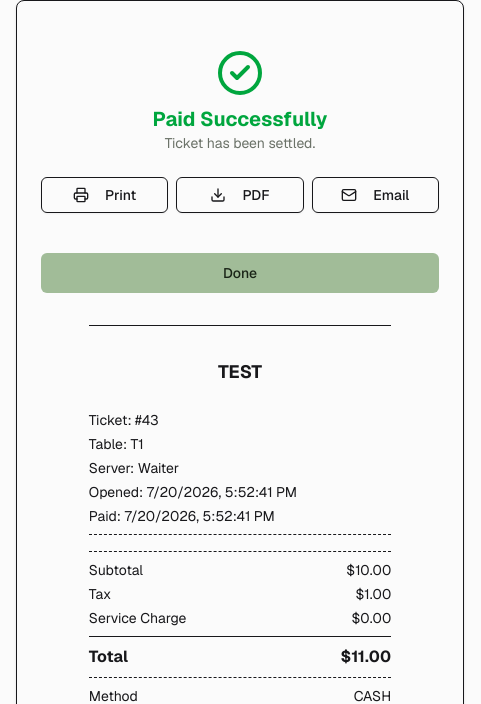
Test: TicketSettlement UI › renders receipt, print button, email form, handles errors and duplicate submits
Check: the text "Ticket: #43" is shown, box [89,411,159,429]
Check: the button "Print" is shown, box [41,177,168,213]
Click the button "Email" at (375, 195), box [312,177,439,213]
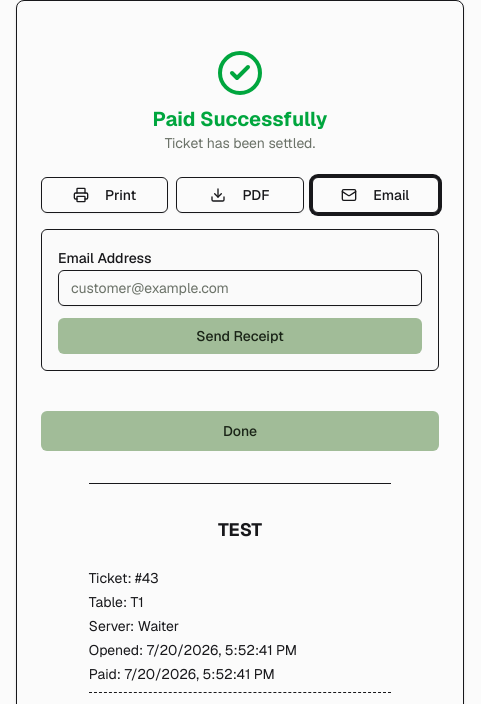
Type "test@example.com" into the field with placeholder "customer@example.com" at (240, 288), box [58,270,422,306]
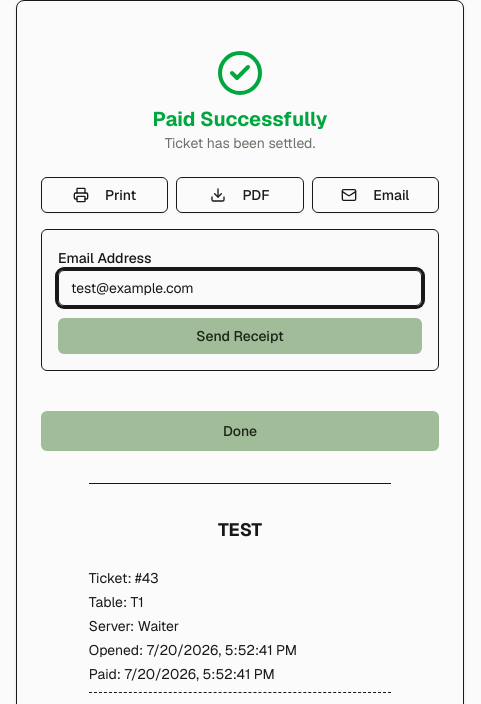
Click the button "Send Receipt" at (240, 336), box [58,318,422,354]
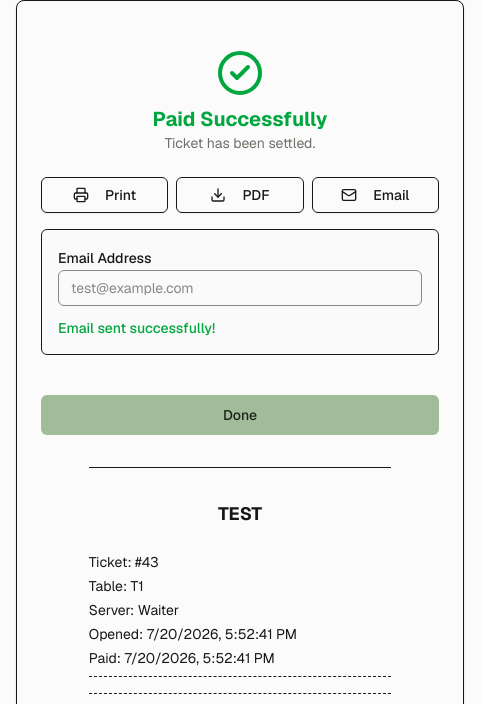
Check: the text "Email sent successfully!" is shown, box [58,319,215,337]
